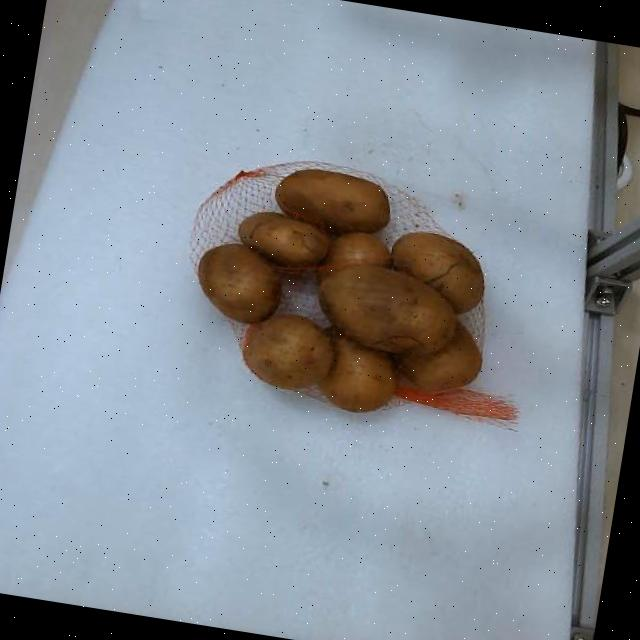potato: (319, 265, 456, 354), (275, 168, 389, 234), (393, 231, 483, 313), (241, 313, 334, 389), (197, 245, 281, 323), (394, 323, 482, 392), (320, 335, 396, 412), (238, 211, 329, 267), (318, 233, 392, 280)
